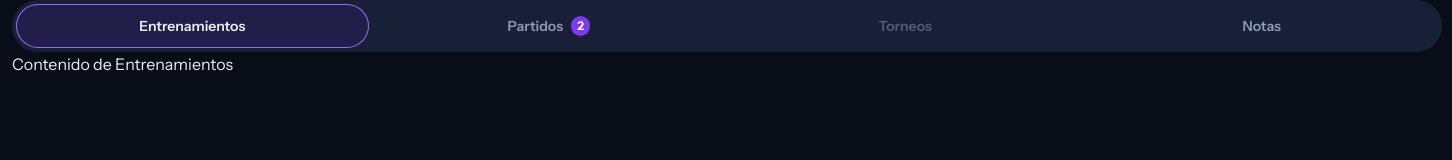
Test: Tabs › con un clic cambia de pestaña y de panel
Click the tab "Partidos 2".
click(549, 26)  # box [372,4,725,48]
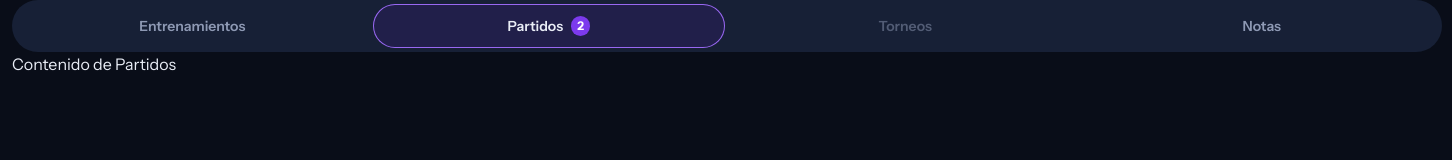
expect the panel reads "Contenido de Partidos": met, box [12,54,176,74]
